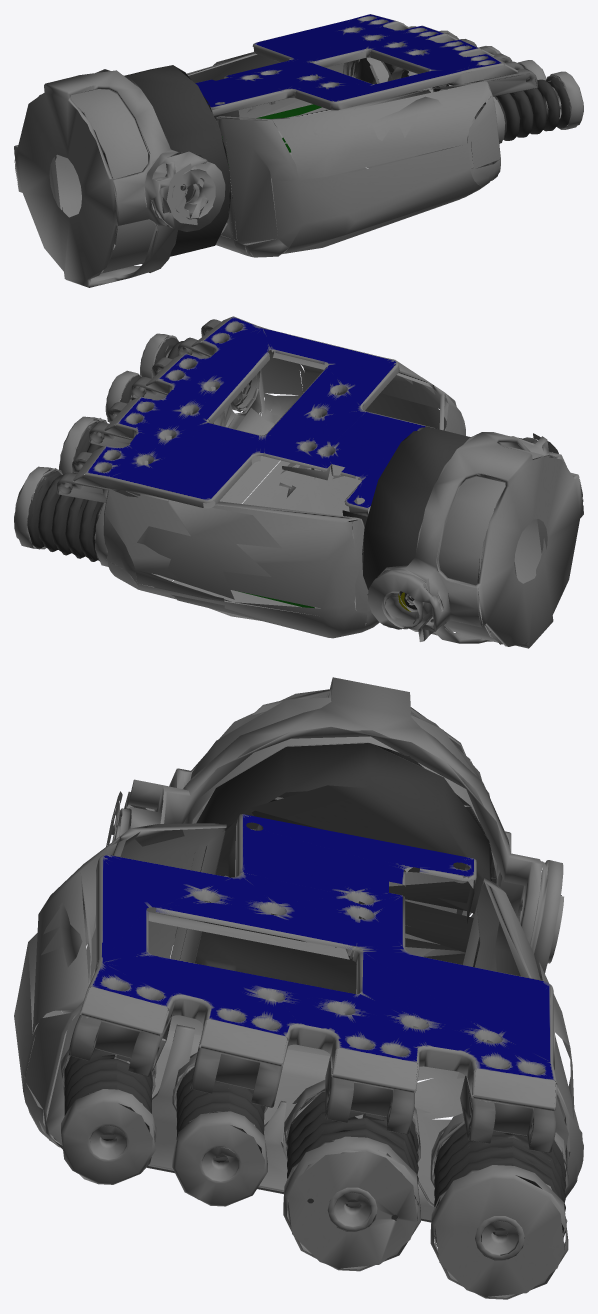
Rendered from arml_wri2_joint.obj.
3 renders of one model, top to bottom at view 1: azimuth 30°, elevation 25°; view 2: azimuth 150°, elevation 25°; view 3: azimuth 270°, elevation 25°, orthographic. The views are drawn at different scales.
Bounding box in the file's own units: 0.1182 × 0.049 × 0.0795.
Materials: 1 (1 with a texture image).
